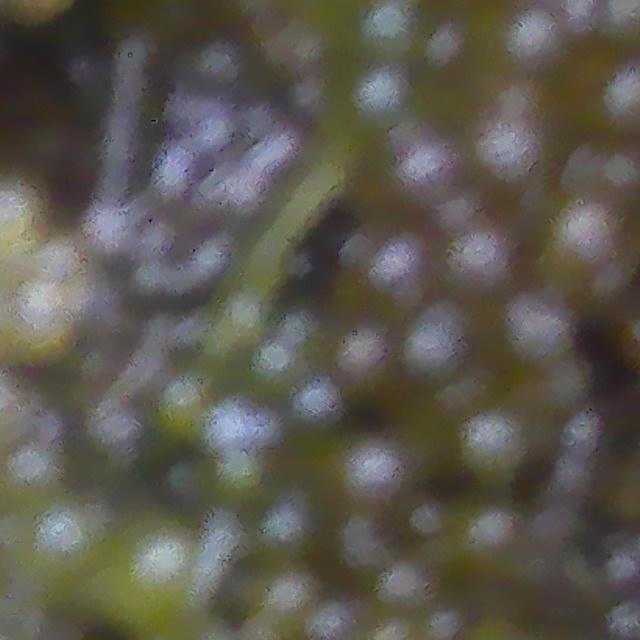SeaGrape: (334, 329, 399, 406), (460, 407, 527, 481), (369, 239, 434, 307), (327, 445, 395, 508), (488, 107, 536, 188), (455, 227, 518, 283), (569, 193, 613, 271), (502, 13, 567, 64), (520, 302, 581, 356), (416, 315, 469, 364), (416, 149, 462, 202), (591, 556, 640, 598), (605, 595, 640, 640)
